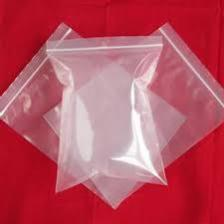plastic: (0, 22, 188, 214), (43, 20, 224, 210), (45, 34, 176, 195)
